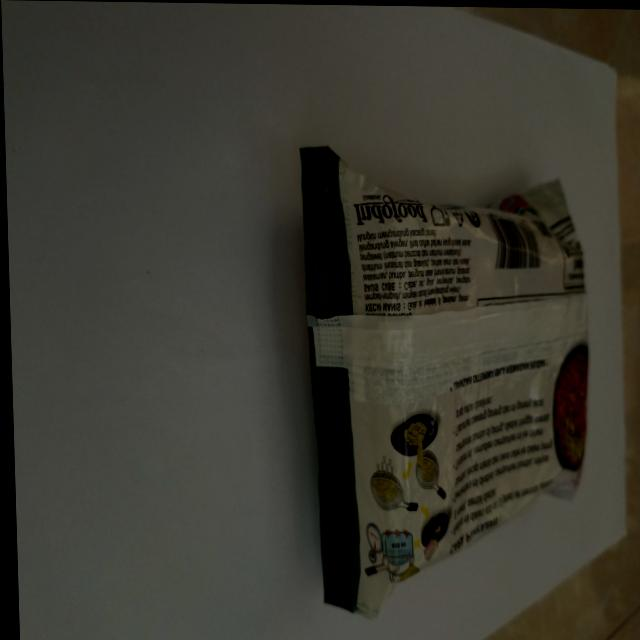gery-salut-coconut: (295, 144, 596, 620)
